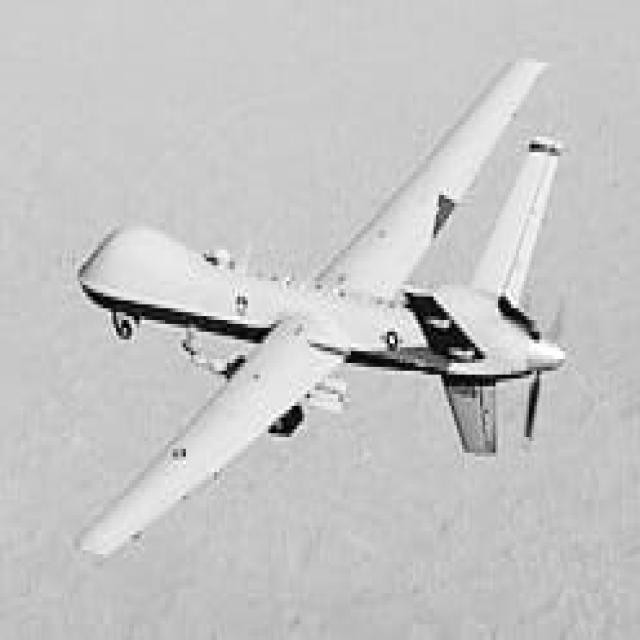iha: (13, 15, 563, 550)
